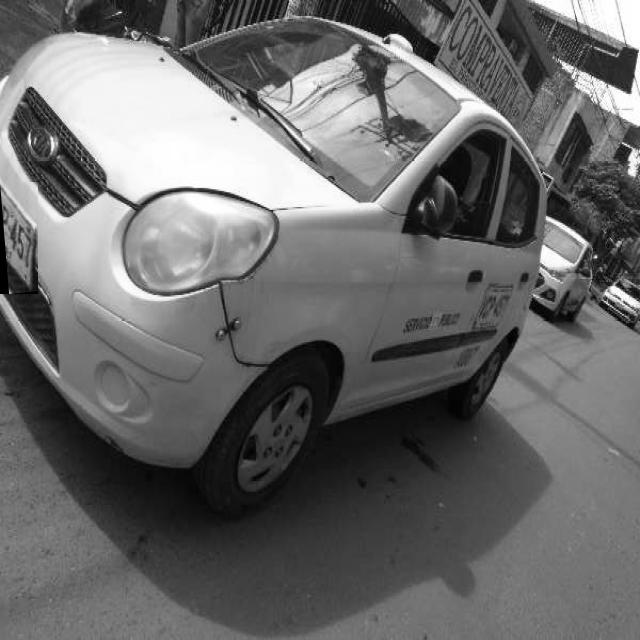plate: (2, 182, 38, 293)
